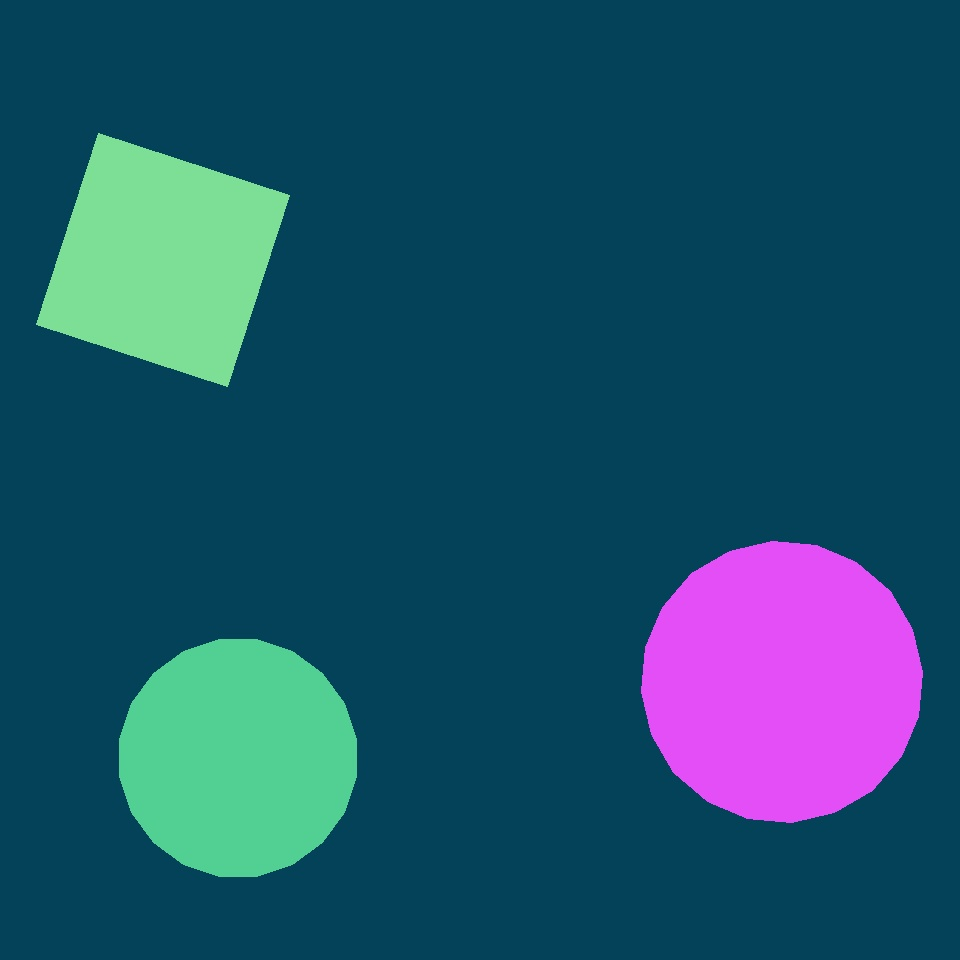square: (36, 133, 290, 386)
triangle: (642, 542, 922, 822), (120, 640, 356, 876)
